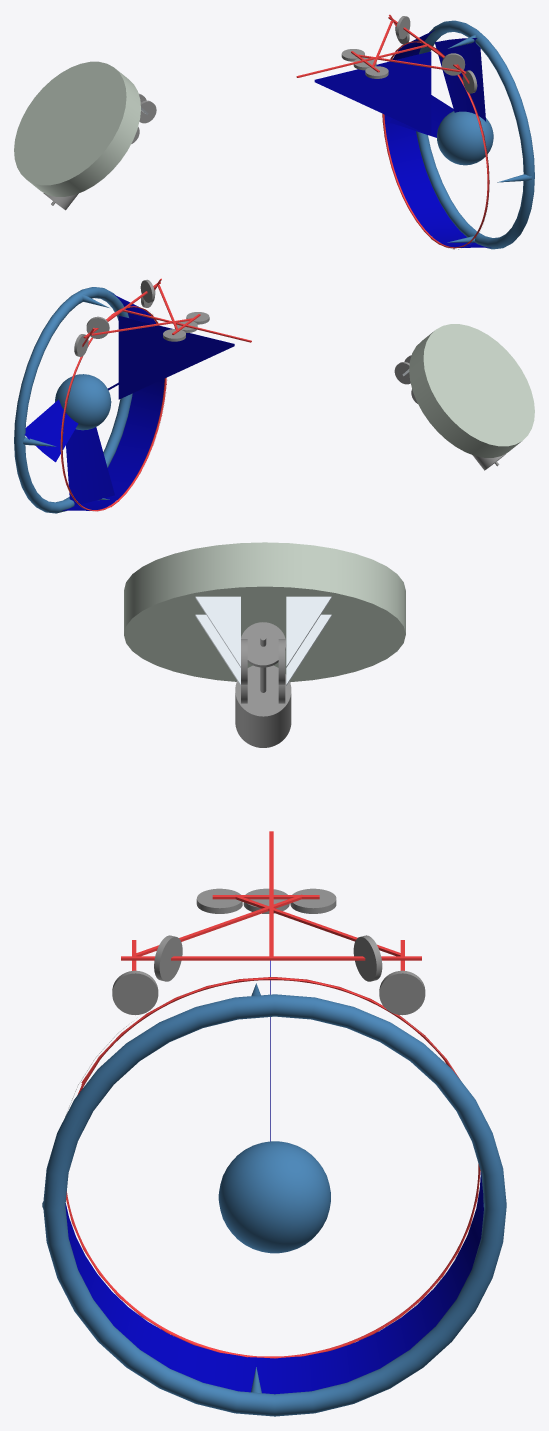
Rendered from Simplicity2.gltf.
3 renders of one model, top to bottom at view 1: azimuth 30°, elevation 25°; view 2: azimuth 150°, elevation 25°; view 3: azimuth 270°, elevation 25°, orthographic. The views are drawn at different scales.
Parts seen in each view (by area): view 1: Object54, Object170, Object162, Object166, Object158, Object155, Object156, Object9, Object17, Object160, Object10, Object125; view 2: Object54, Object162, Object170, Object166, Object154, Object158, Object156, Object9, Object140, Object10, Object160; view 3: Object170, Object54, Object166, Object158, Object46, Object129, Object130, Object19, Object139, Object14, Object123, Object159 (+2 smaller).
Boxes of the visible parts, x1=… form: Object54: x1=14, y1=61, x2=140, y2=196; Object170: x1=416, y1=20, x2=534, y2=249; Object162: x1=314, y1=51, x2=431, y2=135; Object166: x1=384, y1=30, x2=490, y2=247; Object158: x1=437, y1=111, x2=493, y2=165; Object155: x1=434, y1=38, x2=485, y2=121; Object156: x1=390, y1=95, x2=453, y2=137; Object9: x1=382, y1=58, x2=439, y2=244; Object17: x1=442, y1=53, x2=465, y2=75; Object160: x1=296, y1=44, x2=428, y2=77; Object10: x1=431, y1=121, x2=489, y2=248; Object125: x1=139, y1=100, x2=156, y2=123; Object54: x1=409, y1=324, x2=534, y2=457; Object162: x1=118, y1=316, x2=234, y2=399; Object170: x1=14, y1=287, x2=132, y2=513; Object166: x1=62, y1=293, x2=164, y2=510; Object154: x1=66, y1=427, x2=114, y2=505; Object158: x1=55, y1=374, x2=111, y2=430; Object156: x1=24, y1=399, x2=78, y2=462; Object9: x1=60, y1=391, x2=118, y2=511; Object140: x1=86, y1=316, x2=109, y2=338; Object10: x1=111, y1=323, x2=166, y2=507; Object160: x1=120, y1=309, x2=251, y2=342; Object170: x1=43, y1=994, x2=506, y2=1416; Object54: x1=124, y1=542, x2=405, y2=682; Object166: x1=65, y1=1089, x2=483, y2=1394; Object158: x1=218, y1=1141, x2=330, y2=1253; Object46: x1=235, y1=665, x2=291, y2=747; Object129: x1=286, y1=596, x2=331, y2=667; Object130: x1=195, y1=596, x2=240, y2=667; Object19: x1=112, y1=970, x2=158, y2=1015; Object139: x1=379, y1=970, x2=425, y2=1015; Object14: x1=81, y1=977, x2=459, y2=1084; Object123: x1=241, y1=622, x2=286, y2=667; Object159: x1=121, y1=956, x2=421, y2=960.
Bounding box in the file's own units: 4.53 × 2.46 × 1.98.
